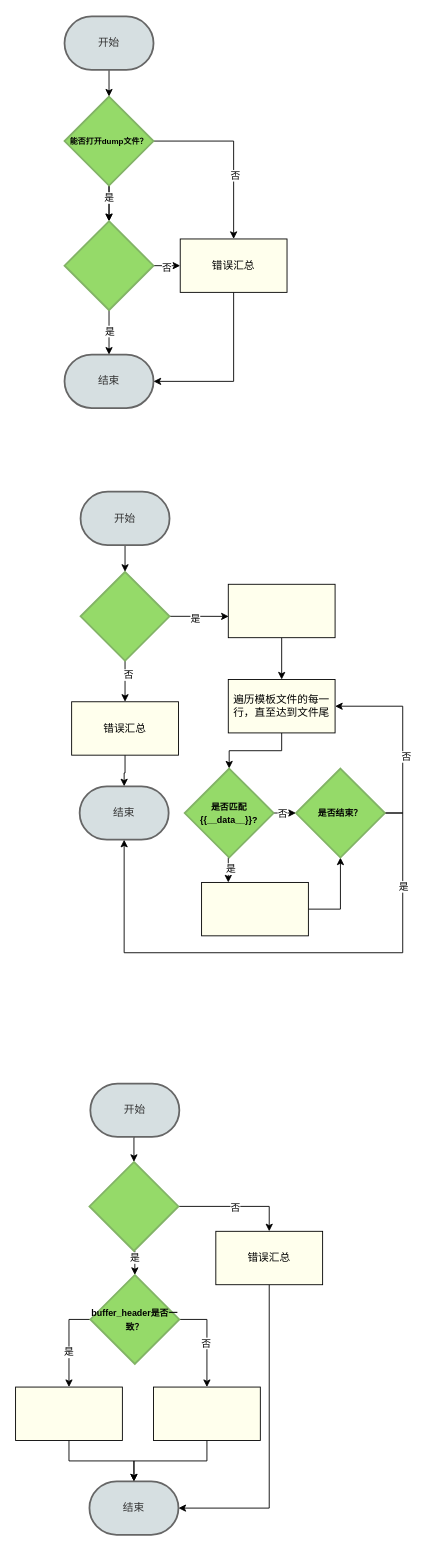
Image size: 426x1550. Some labels were removed from this diagram. The box of each missing label's shape, as (x1, y1, x2, y2) in pixels:
fwrite写super block到dump文件是否成功？: (63, 220, 154, 311)
将data数据转成bytes字符串，如"Aa"，转换成" 65, 97,": (227, 583, 335, 638)
将super block拷贝到参数raw_super，并设置其它参数: (15, 1386, 122, 1440)
将匹配的字符串替换成实际数据: (201, 882, 308, 936)
打开fsck_info模板文件和dump文件: (79, 570, 170, 661)
构造一个虚拟的buffer_header，数据指针指向参数data: (88, 1161, 179, 1251)
调用原始的read_raw_super_block: (153, 1386, 260, 1440)
